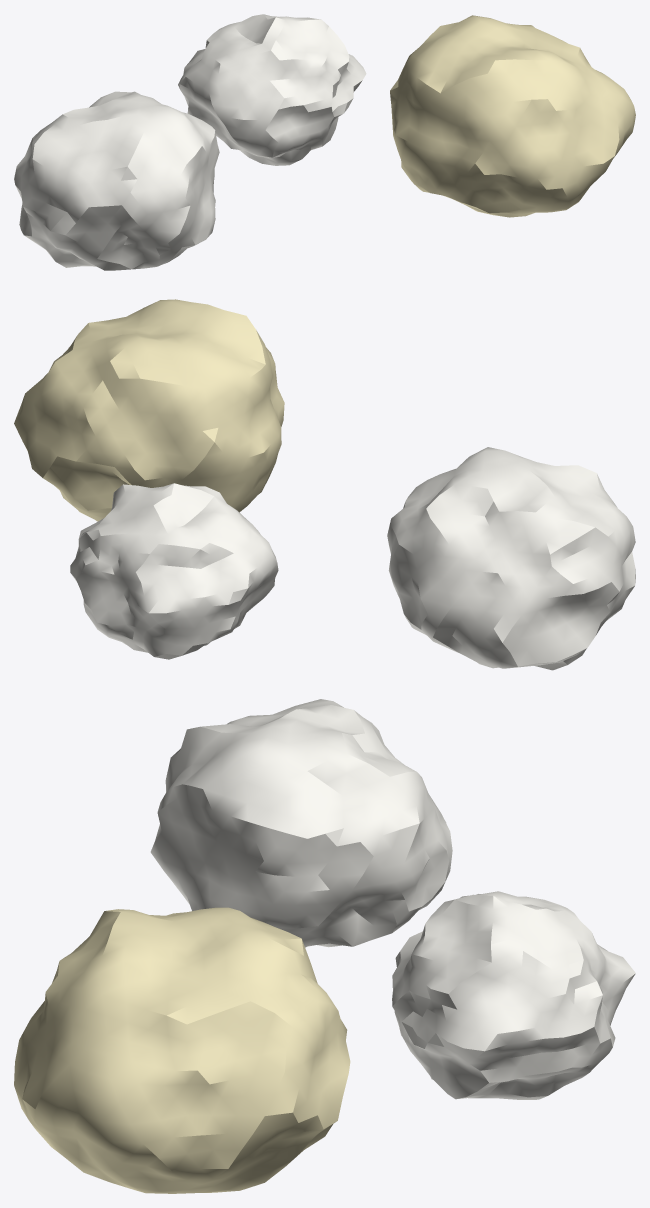
The model's file is kitchen_paper_balls.fbx.
3 renders of one model, top to bottom at view 1: azimuth 30°, elevation 25°; view 2: azimuth 150°, elevation 25°; view 3: azimuth 270°, elevation 25°, orthographic. The views are drawn at different scales.
Parts seen in each view (by area): view 1: kitchen_paper_balls; view 2: kitchen_paper_balls; view 3: kitchen_paper_balls.
Boxes of the visible parts, x1,y1,x2,y2 form: kitchen_paper_balls: (14,14,635,270); kitchen_paper_balls: (14,299,635,670); kitchen_paper_balls: (14,699,635,1193).
Bounding box in the file's own units: 0.2225 × 0.0669 × 0.155.
